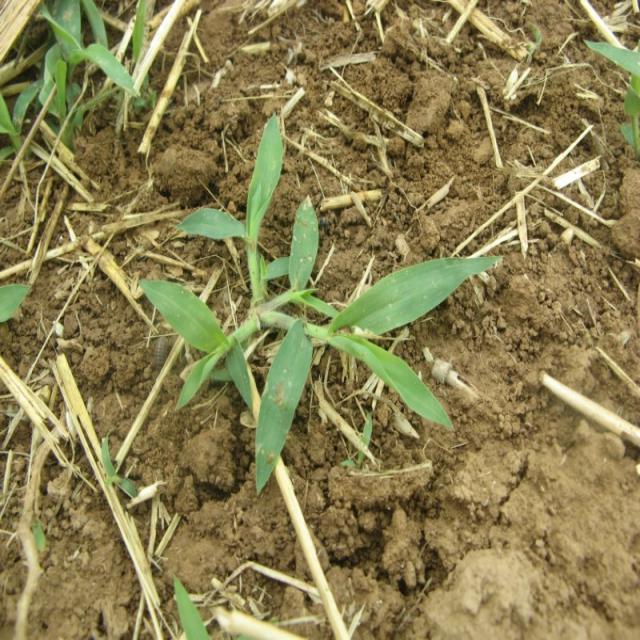bg: (140, 122, 502, 493)
